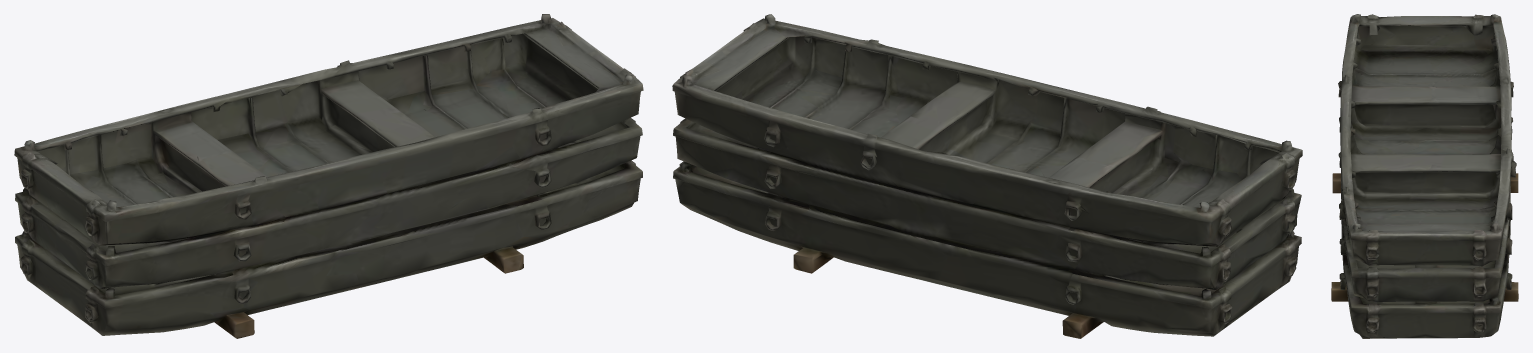
Rendered from prop_pontoons.glb.
3 views of the same model, side by side, from view 1: azimuth 30°, elevation 25°; view 2: azimuth 150°, elevation 25°; view 3: azimuth 270°, elevation 25° (orthographic). The views are drawn at different scales.
Parts seen in each view (by area): view 1: tripo_node_3a1c3cf7-d110-4bdb-99e2-6c9457099b0e; view 2: tripo_node_3a1c3cf7-d110-4bdb-99e2-6c9457099b0e; view 3: tripo_node_3a1c3cf7-d110-4bdb-99e2-6c9457099b0e.
Boxes of the visible parts, x1,y1,x2,y2 form: tripo_node_3a1c3cf7-d110-4bdb-99e2-6c9457099b0e: (14,14,643,338); tripo_node_3a1c3cf7-d110-4bdb-99e2-6c9457099b0e: (672,14,1302,338); tripo_node_3a1c3cf7-d110-4bdb-99e2-6c9457099b0e: (1331,14,1518,338).
Size of the model in its own units: 1 by 0.2689 by 0.3548.
1 material, 1 textured.
